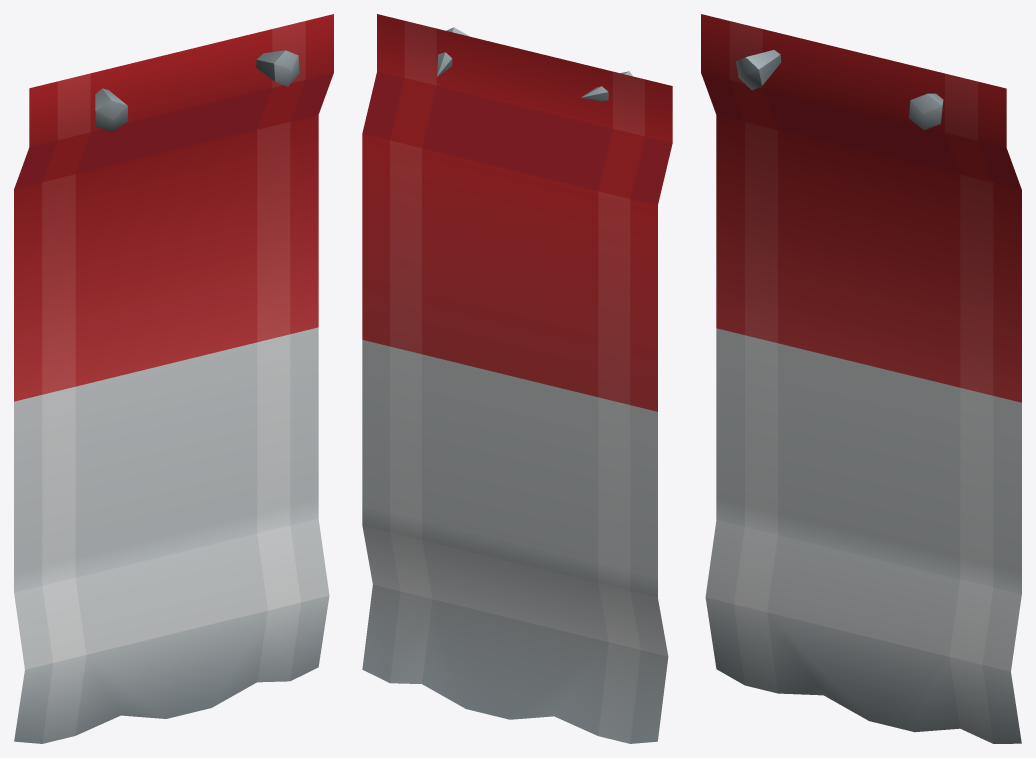
Rendered from banner_patternC_red.obj.
3 views of the same model, side by side, from view 1: azimuth 30°, elevation 25°; view 2: azimuth 150°, elevation 25°; view 3: azimuth 330°, elevation 25° (orthographic). The views are drawn at different scales.
Parts seen in each view (by area): view 1: banner_patternC_red; view 2: banner_patternC_red; view 3: banner_patternC_red.
Boxes of the visible parts, x1,y1,x2,y2 form: banner_patternC_red: (14, 14, 333, 743); banner_patternC_red: (362, 14, 672, 743); banner_patternC_red: (701, 14, 1021, 743).
Size of the model in its own units: 1.5 by 3.2 by 0.3119.
Materials: 1 (1 with a texture image).
